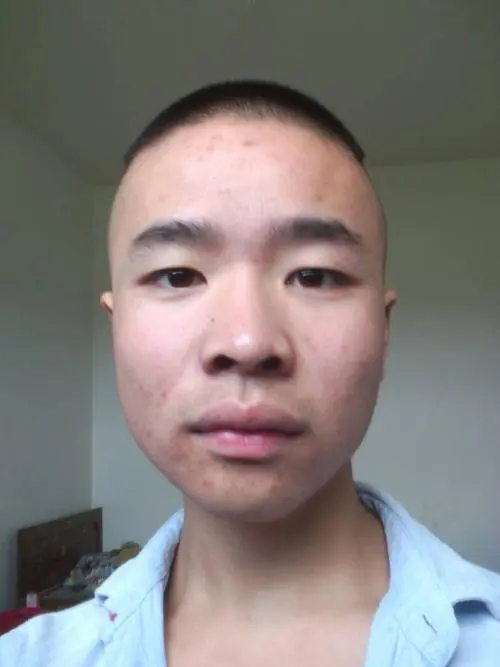withoutmask: (82, 53, 410, 536)
